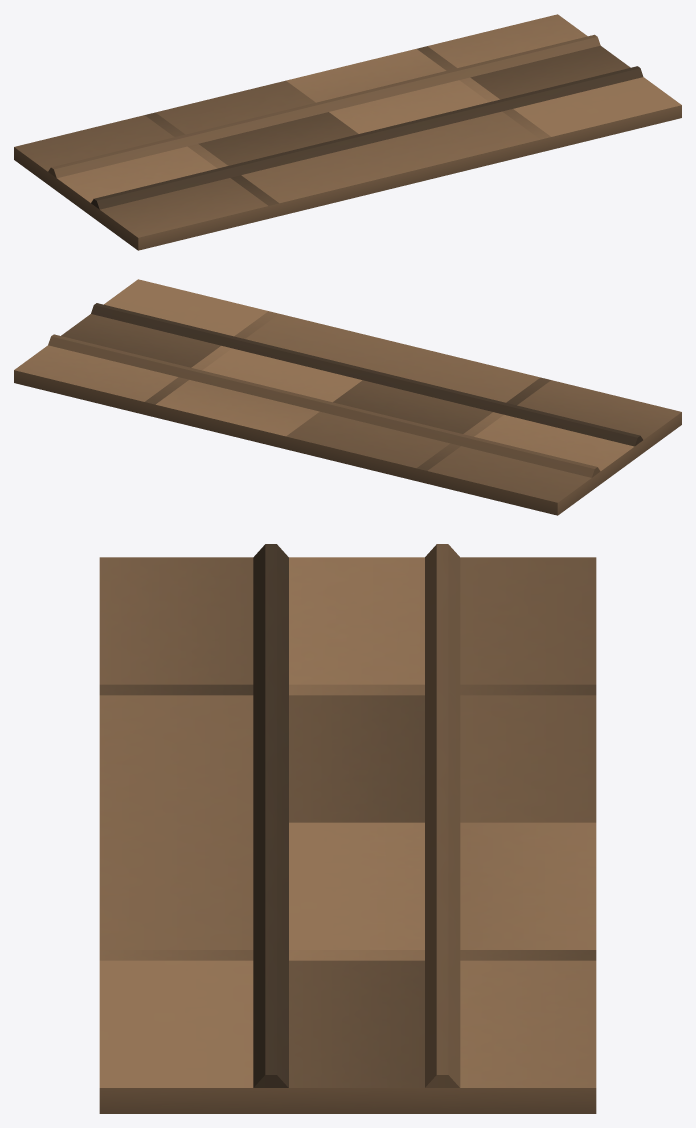
File: cabin_Roof_Side.obj
3 views of the same model, one above another, from view 1: azimuth 30°, elevation 25°; view 2: azimuth 150°, elevation 25°; view 3: azimuth 270°, elevation 25° (orthographic). The views are drawn at different scales.
Parts seen in each view (by area): view 1: cabin_Roof_Side; view 2: cabin_Roof_Side; view 3: cabin_Roof_Side.
Part boxes in pixels (x1,y1,x2,y2): cabin_Roof_Side: (14,14,681,250); cabin_Roof_Side: (14,279,681,515); cabin_Roof_Side: (99,544,596,1113).
Size of the model in its own units: 9.3 by 0.3189 by 3.68.
